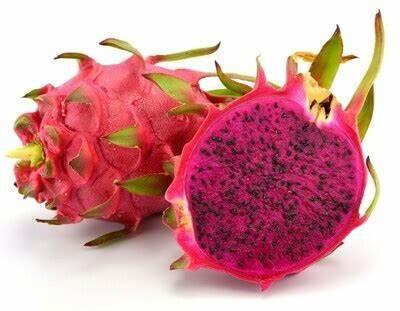dragon-fruit: (158, 29, 400, 294), (5, 37, 177, 241)
